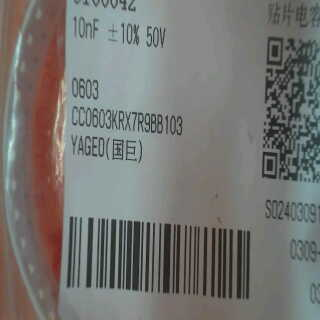10nF: (68, 15, 101, 46)
